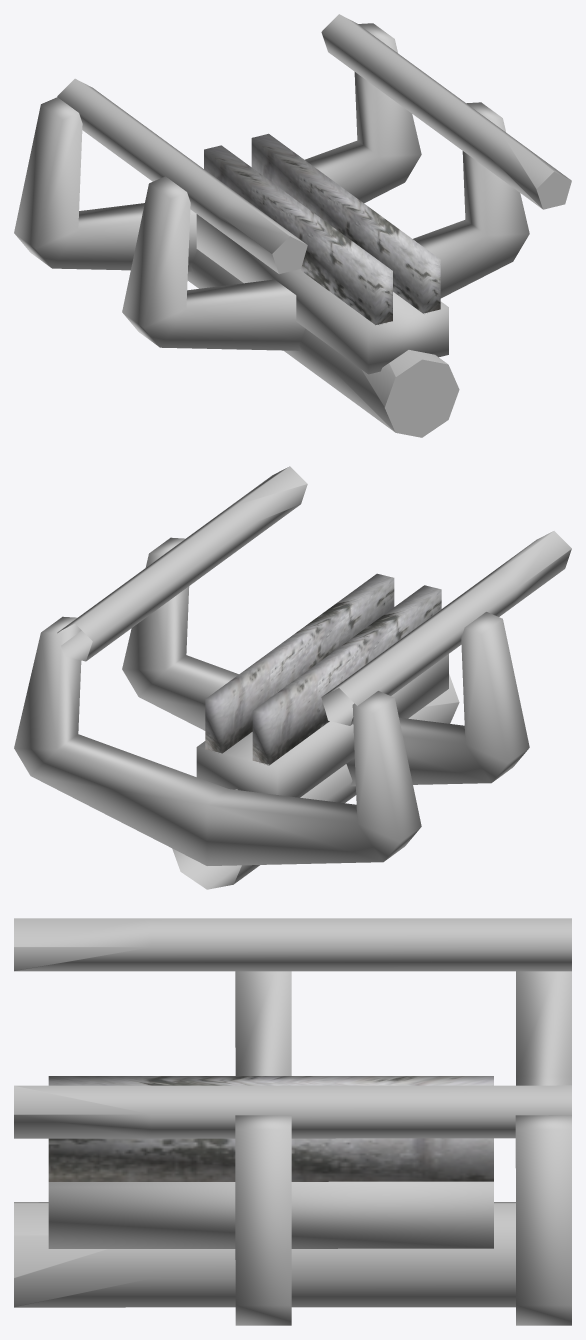
File: MyTrack.fbx
3 renders of one model, top to bottom at view 1: azimuth 30°, elevation 25°; view 2: azimuth 150°, elevation 25°; view 3: azimuth 270°, elevation 25°, orthographic. The views are drawn at different scales.
Parts seen in each view (by area): view 1: steel_1_linear_motor; view 2: steel_1_linear_motor; view 3: steel_1_linear_motor.
Part boxes in pixels (<box>): steel_1_linear_motor: <box>14,14,571,437</box>; steel_1_linear_motor: <box>14,466,571,889</box>; steel_1_linear_motor: <box>14,918,571,1325</box>.
Size of the model in its own units: 206 by 120 by 199.
